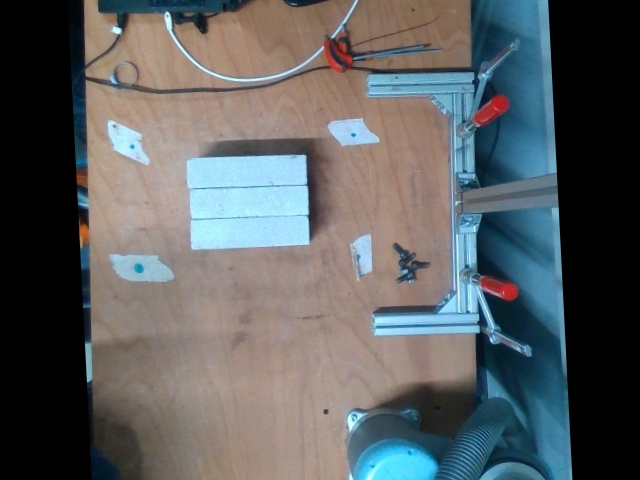brick-side: (190, 185, 307, 221), (189, 216, 307, 249), (186, 155, 306, 186)
